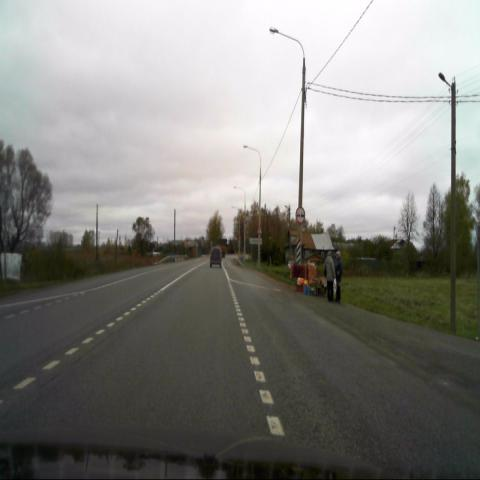3_20: (295, 205, 305, 225)
